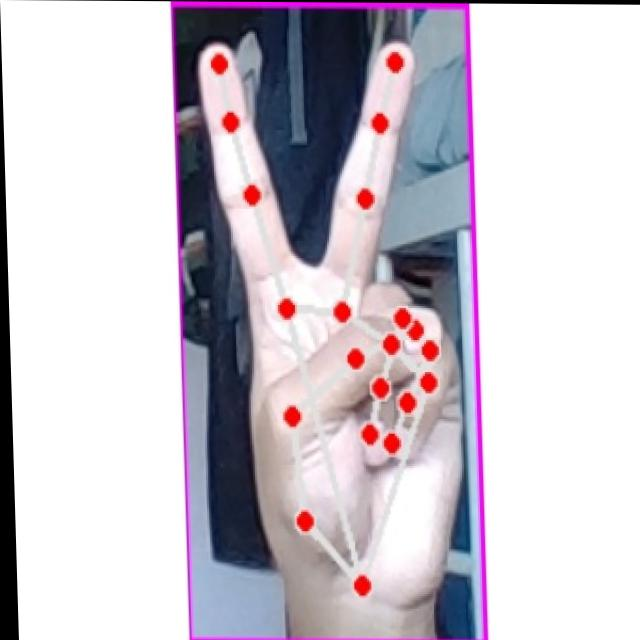V: (196, 32, 465, 605)
